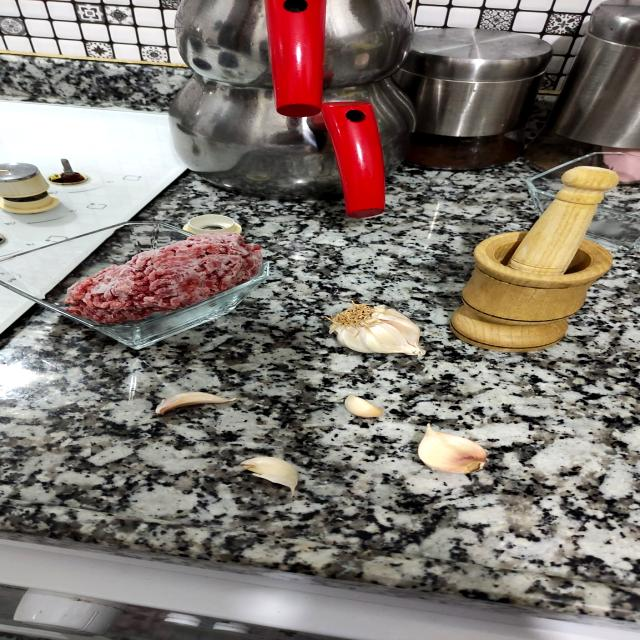garlic: (313, 294, 440, 364), (407, 417, 507, 479), (230, 448, 326, 498), (146, 379, 250, 425), (326, 390, 392, 425)
ground meat: (44, 226, 290, 330)
